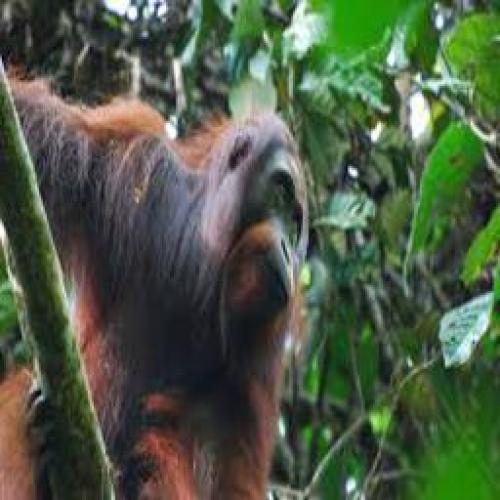orangutan-endangered: (10, 72, 313, 498)
